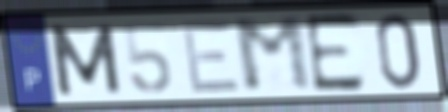0: (372, 11, 424, 92)
5: (120, 19, 174, 95)
E: (301, 10, 368, 96), (178, 17, 244, 95)
M: (229, 14, 318, 95), (45, 22, 125, 98)
